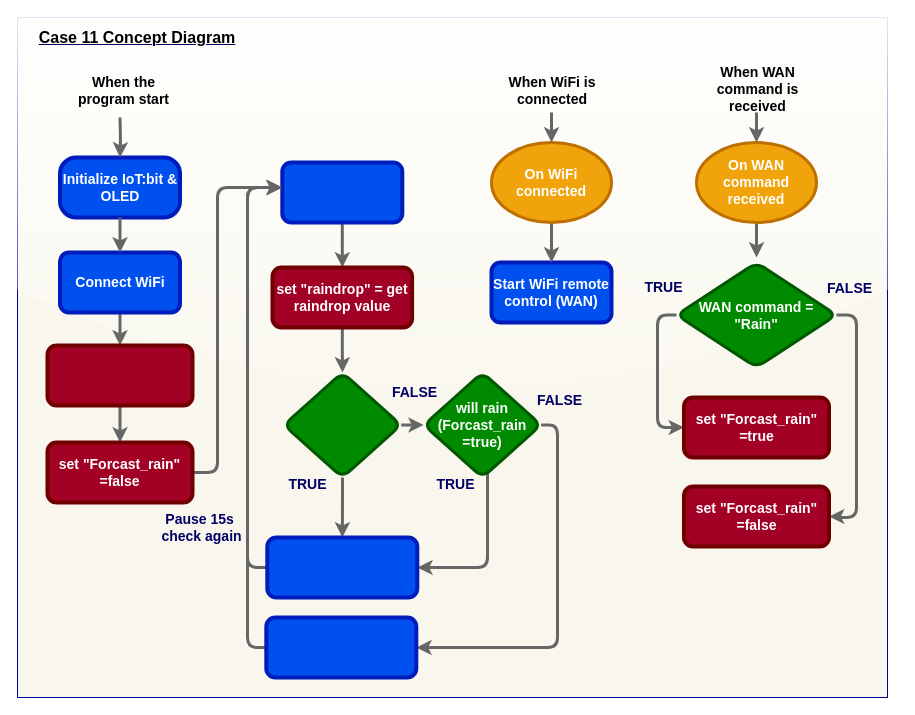
This 915x715 diagram has some shape labels left out. The shapes that lost their labels are listed below. From the top down, each one's box as (x1, y1, x2, y2) in pixels, then its label:
(280, 160, 404, 224): Raindrop Sensor
(45, 343, 194, 407): set "raindrop" = 0
(282, 370, 402, 478): is raining (raindrop>5)
(265, 535, 419, 599): Open rack (servo turns to 90 ᵒ)
(264, 615, 418, 679): Close rack (servo turns to 180 ᵒ)
